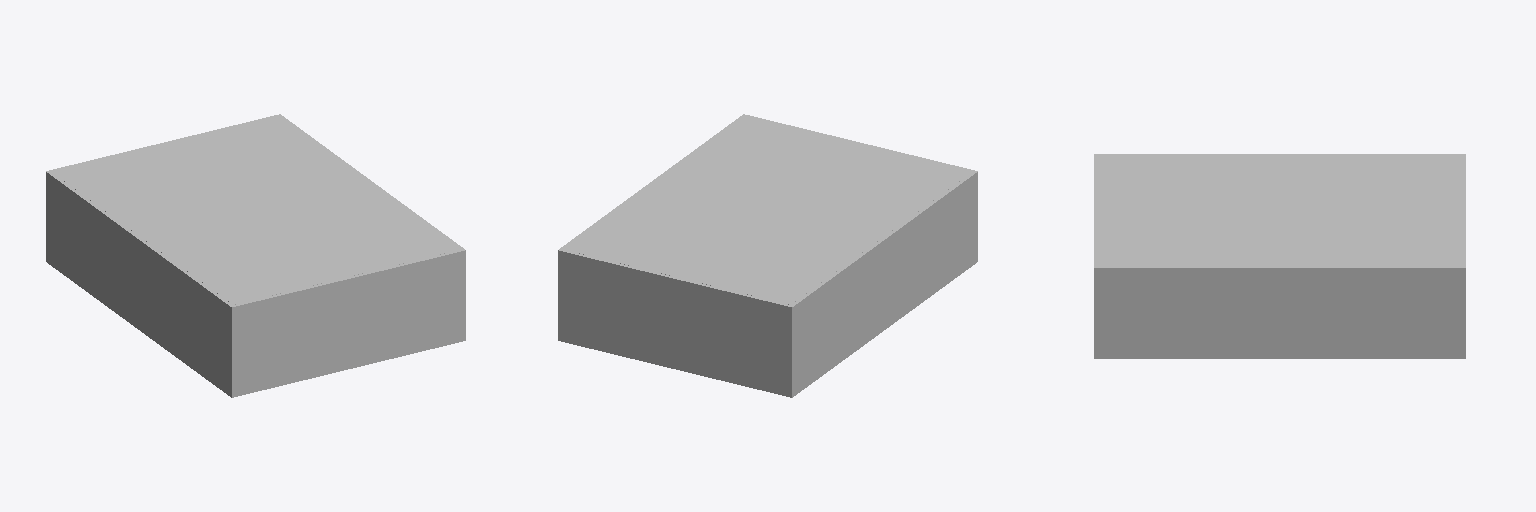
The model's file is house.obj.
3 views of the same model, side by side, from view 1: azimuth 30°, elevation 25°; view 2: azimuth 150°, elevation 25°; view 3: azimuth 270°, elevation 25° (orthographic).
Parts seen in each view (by area): view 1: Studio_ceiling, Studio_building; view 2: Studio_ceiling, Studio_building; view 3: Studio_ceiling, Studio_building.
Part boxes in pixels (bbox=[...]): Studio_ceiling: bbox=[52, 117, 459, 304]; Studio_building: bbox=[46, 114, 465, 397]; Studio_ceiling: bbox=[564, 117, 971, 304]; Studio_building: bbox=[558, 114, 977, 397]; Studio_ceiling: bbox=[1098, 155, 1461, 265]; Studio_building: bbox=[1094, 154, 1465, 358].
Size of the model in its own units: 380 by 140 by 522.